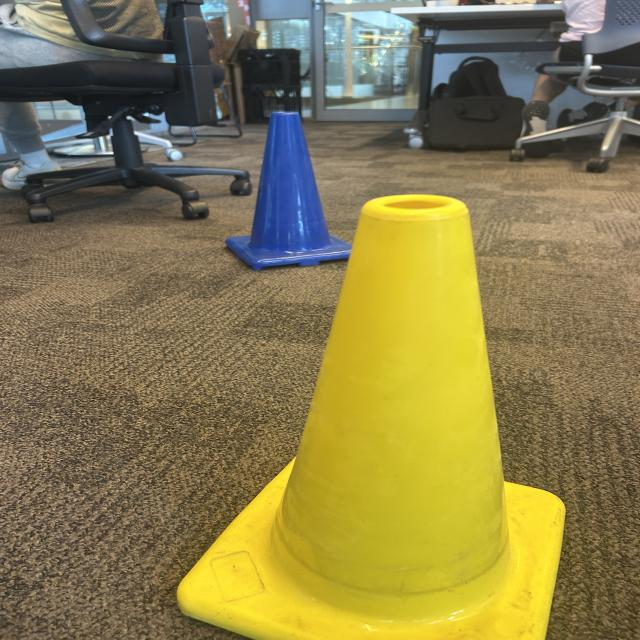blue_cone: (226, 111, 358, 268)
yellow_cone: (176, 194, 566, 640)
